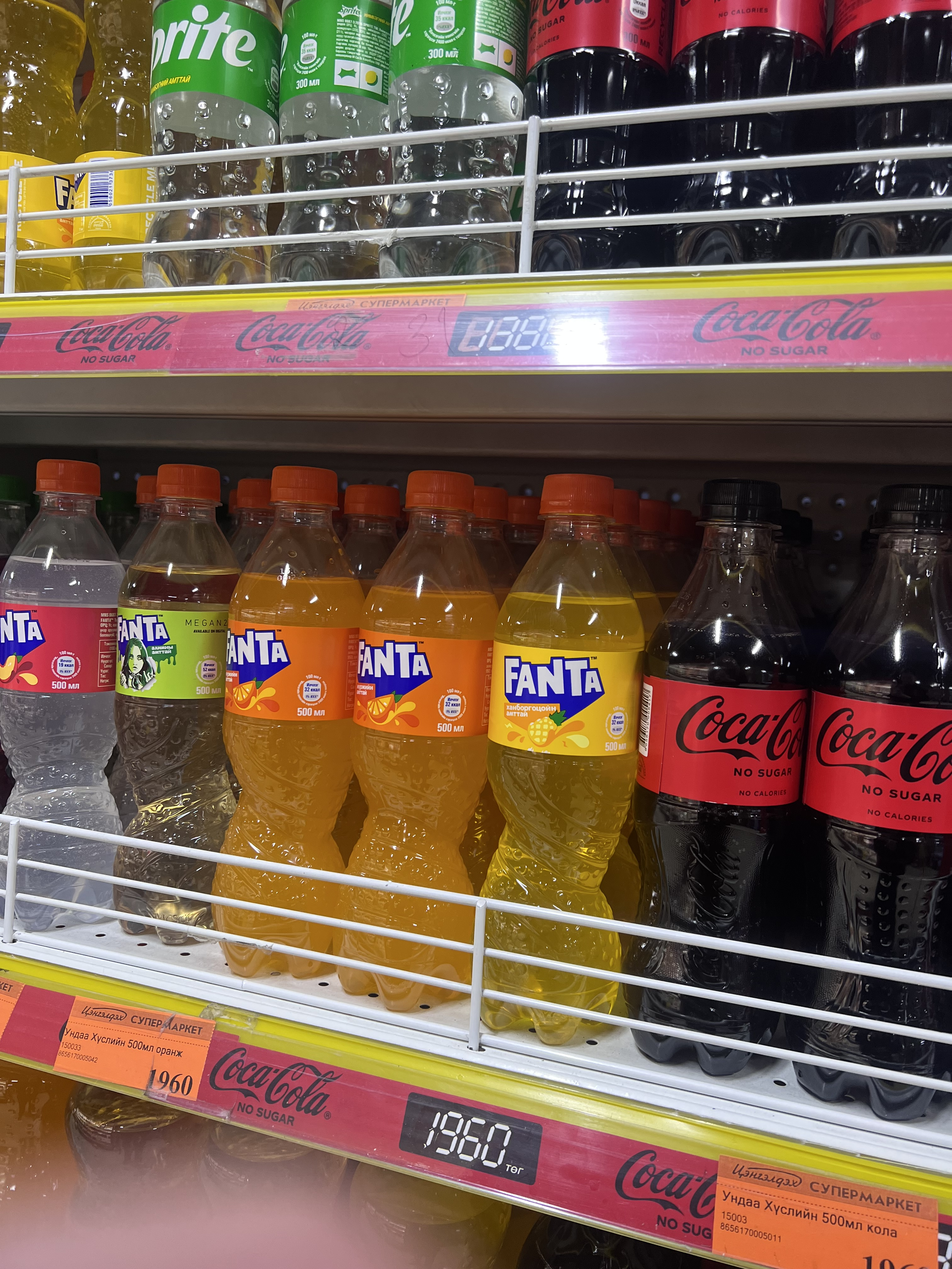coca_cola_500ml: (787, 485, 952, 1120), (634, 480, 807, 944)
fanta_500ml: (482, 474, 644, 919), (347, 471, 497, 894), (223, 466, 363, 871), (3, 452, 114, 932), (108, 468, 215, 964)
sprite_500ml: (405, 6, 528, 295), (280, 0, 389, 280), (150, 0, 280, 155)
